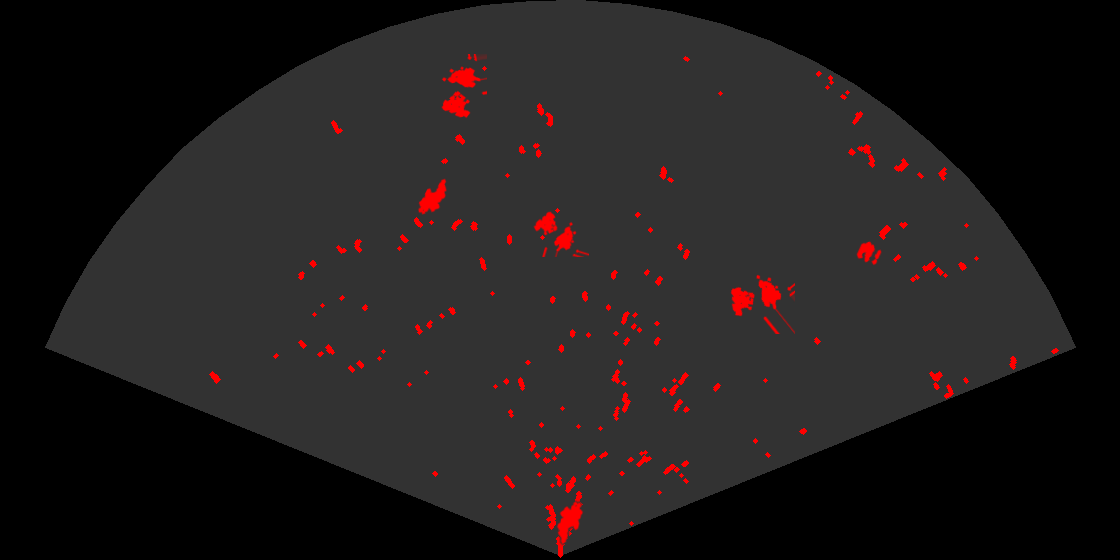AUV: (555, 500, 585, 546), (416, 177, 448, 216)
ball: (855, 240, 883, 267)
cage: (729, 273, 795, 334), (440, 54, 487, 120), (532, 210, 589, 257)
